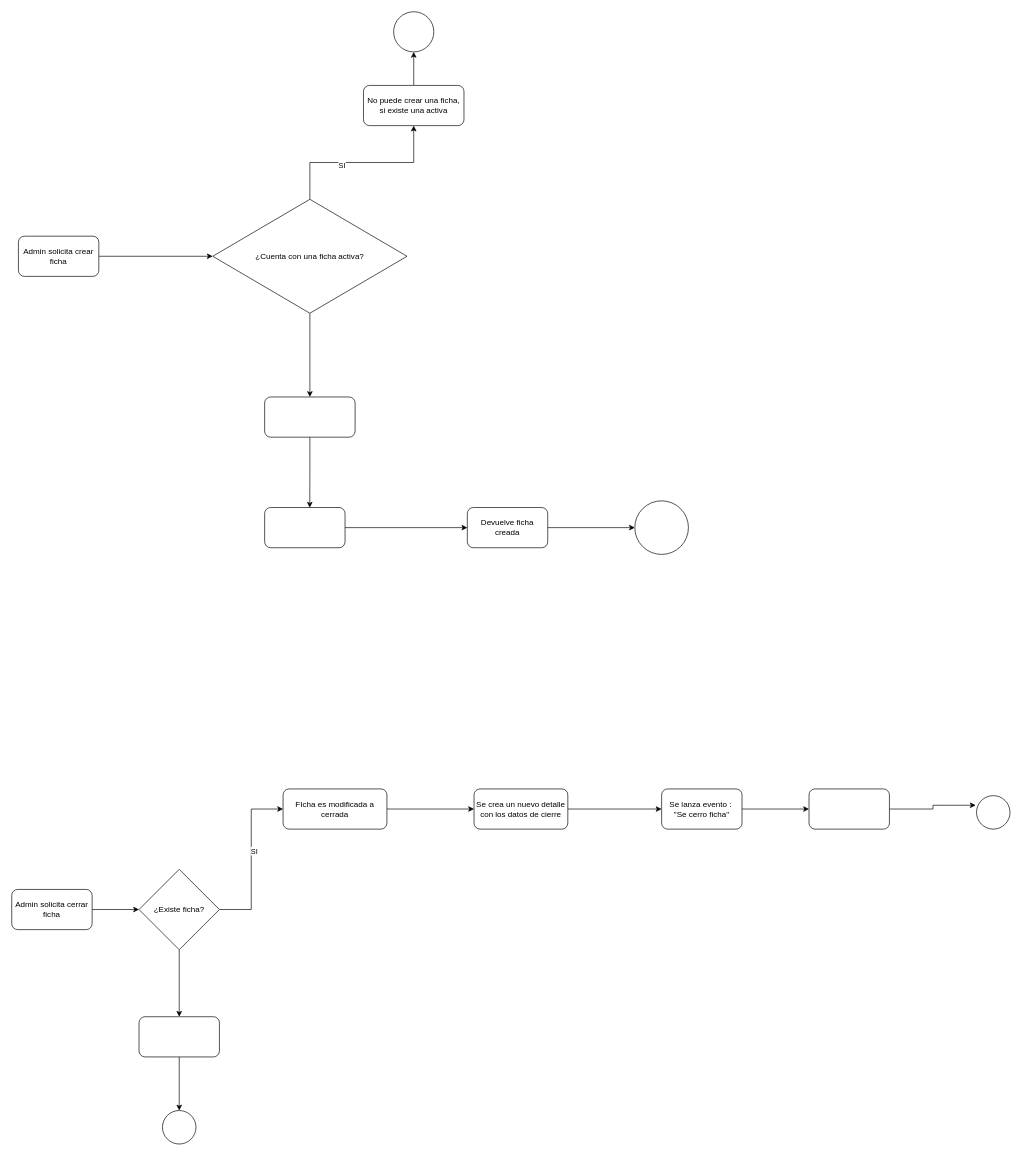
Some shapes in this 1022 by 1156 pixel diagram are drawn without their labels. The shapes that lost their labels are listed below. From the top down, each one's centre as x and y in pixels, then its label:
the point at 309,416: Se crea ficha en estado abierto
the point at 304,527: Se crea el primer detalle de ficha
the point at 848,808: Figha a frontend
the point at 178,1036: Error
